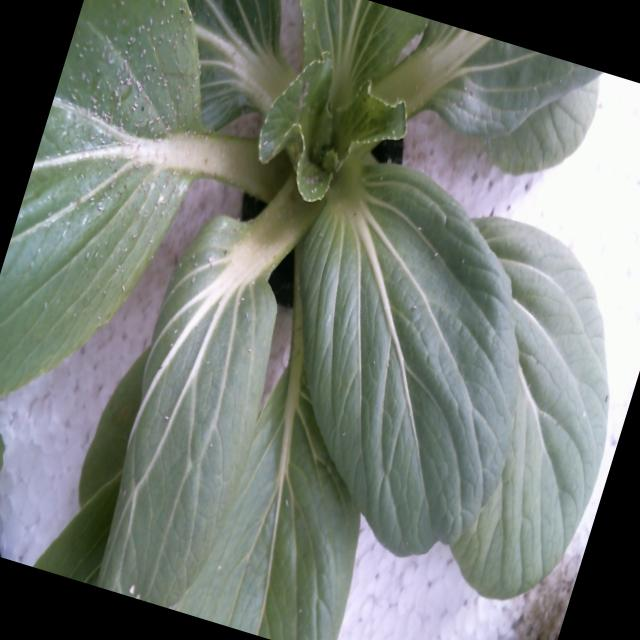pakcoy_tidak_sehat: (0, 0, 426, 382)
